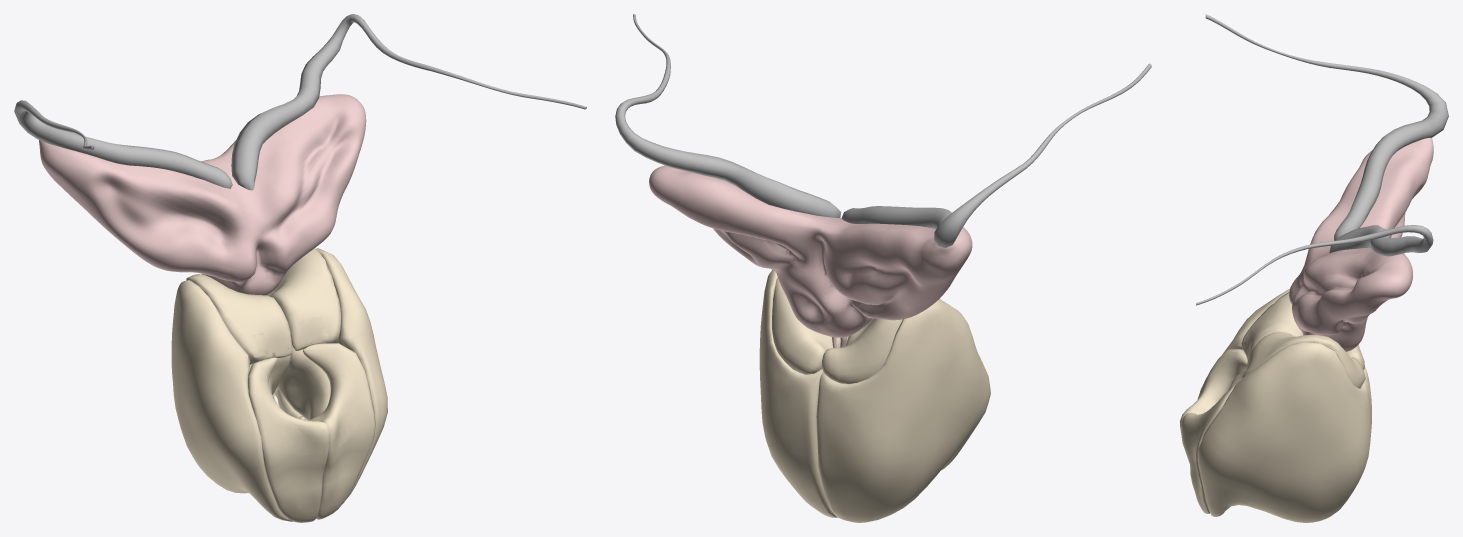
Rendered from VH_M_Prostate.glb.
The picture shows the model from 3 angles, left to right: view 1: azimuth 30°, elevation 25°; view 2: azimuth 150°, elevation 25°; view 3: azimuth 270°, elevation 25°; orthographic projection. The views are drawn at different scales.
Parts seen in each view (by area): view 1: VH_M_seminal_vesicle, VH_M_peripheral_zone_of_prostate_R, VH_M_anterior_fibromuscular_stroma_R, VH_M_anterior_fibromuscular_stroma_L, VH_M_proximal_vas_deferens_R, VH_M_proximal_vas_deferens_L, VH_M_central_zone_of_prostate_L, VH_M_peripheral_zone_of_prostate_L, VH_M_central_zone_of_prostate_R, VH_M_base_of_prostate, VH_M_transition_zone__of_prostate_L; view 2: VH_M_peripheral_zone_of_prostate_R, VH_M_seminal_vesicle, VH_M_peripheral_zone_of_prostate_L, VH_M_proximal_vas_deferens_R, VH_M_proximal_vas_deferens_L, VH_M_central_zone_of_prostate_R, VH_M_central_zone_of_prostate_L; view 3: VH_M_peripheral_zone_of_prostate_L, VH_M_seminal_vesicle, VH_M_proximal_vas_deferens_L, VH_M_proximal_vas_deferens_R, VH_M_central_zone_of_prostate_L, VH_M_central_zone_of_prostate_R, VH_M_anterior_fibromuscular_stroma_L, VH_M_anterior_fibromuscular_stroma_R, VH_M_base_of_prostate, VH_M_peripheral_zone_of_prostate_R.
Part boxes in pixels (x1,y1,x2,y2): VH_M_seminal_vesicle: [39, 94, 366, 295]; VH_M_peripheral_zone_of_prostate_R: [171, 280, 293, 521]; VH_M_anterior_fibromuscular_stroma_R: [248, 357, 329, 522]; VH_M_anterior_fibromuscular_stroma_L: [303, 343, 375, 519]; VH_M_proximal_vas_deferens_R: [231, 14, 586, 190]; VH_M_proximal_vas_deferens_L: [14, 100, 232, 188]; VH_M_central_zone_of_prostate_L: [267, 248, 340, 387]; VH_M_peripheral_zone_of_prostate_L: [272, 248, 387, 499]; VH_M_central_zone_of_prostate_R: [186, 274, 292, 364]; VH_M_base_of_prostate: [236, 317, 367, 454]; VH_M_transition_zone__of_prostate_L: [277, 346, 330, 420]; VH_M_peripheral_zone_of_prostate_R: [816, 299, 990, 522]; VH_M_seminal_vesicle: [649, 165, 972, 337]; VH_M_peripheral_zone_of_prostate_L: [759, 270, 837, 517]; VH_M_proximal_vas_deferens_R: [615, 14, 841, 217]; VH_M_proximal_vas_deferens_L: [841, 63, 1151, 247]; VH_M_central_zone_of_prostate_R: [821, 318, 902, 383]; VH_M_central_zone_of_prostate_L: [772, 277, 848, 374]; VH_M_peripheral_zone_of_prostate_L: [1197, 342, 1371, 522]; VH_M_seminal_vesicle: [1289, 138, 1433, 351]; VH_M_proximal_vas_deferens_L: [1205, 14, 1448, 240]; VH_M_proximal_vas_deferens_R: [1196, 225, 1433, 305]; VH_M_central_zone_of_prostate_L: [1241, 332, 1365, 388]; VH_M_central_zone_of_prostate_R: [1241, 292, 1364, 369]; VH_M_anterior_fibromuscular_stroma_L: [1181, 379, 1240, 513]; VH_M_anterior_fibromuscular_stroma_R: [1180, 349, 1247, 443]; VH_M_base_of_prostate: [1182, 325, 1253, 447]; VH_M_peripheral_zone_of_prostate_R: [1200, 289, 1371, 409].
Size of the model in its own units: 0.083 by 0.0706 by 0.0428.
